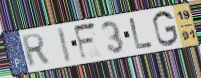3: (101, 19, 126, 55)
F: (72, 21, 99, 62)
G: (151, 10, 180, 48)
I: (55, 26, 73, 65)
L: (127, 16, 155, 51)
R: (22, 32, 51, 69)
